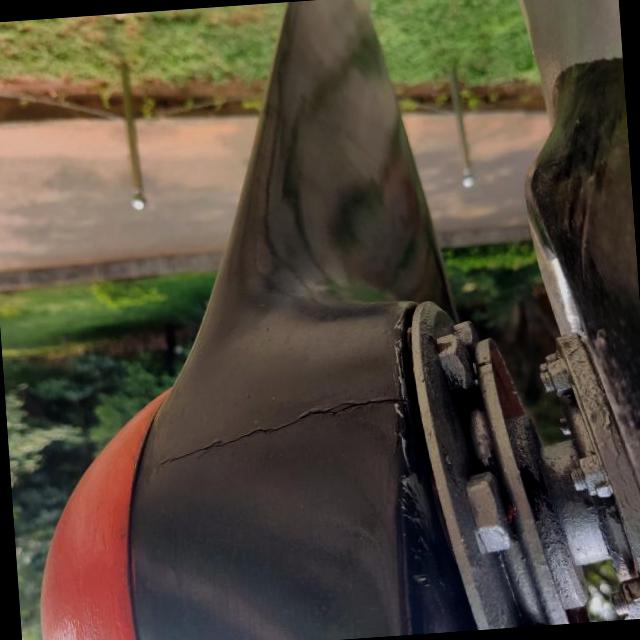crack: (140, 366, 403, 496)
